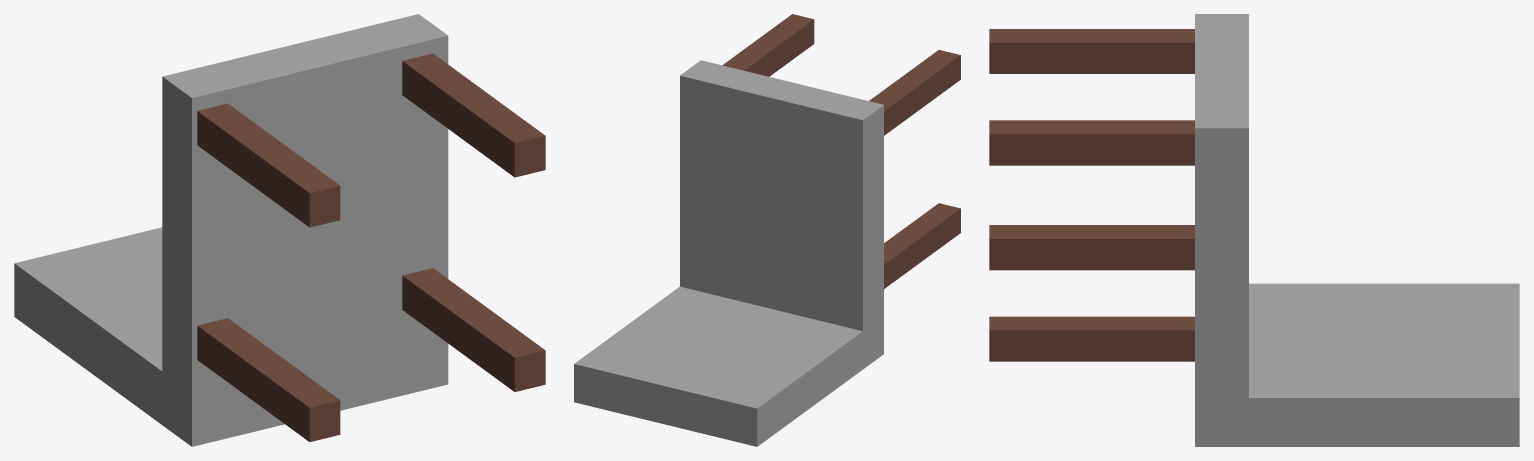
3 renders of one model, left to right at view 1: azimuth 30°, elevation 25°; view 2: azimuth 150°, elevation 25°; view 3: azimuth 270°, elevation 25°, orthographic. The views are drawn at different scales.
Visible parts, largest first — view 1: 立方体.004, 立方体.003, 立方体.002, 立方体, 立方体.001; view 2: 立方体.004, 立方体.002, 立方体, 立方体.003; view 3: 立方体.004, 立方体, 立方体.001, 立方体.003, 立方体.002.
Boxes of the visible parts, bbox=[...] form: 立方体.004: bbox=[14, 14, 448, 446]; 立方体.003: bbox=[402, 53, 545, 177]; 立方体.002: bbox=[197, 103, 340, 227]; 立方体: bbox=[197, 318, 340, 441]; 立方体.001: bbox=[402, 268, 545, 391]; 立方体.004: bbox=[574, 60, 883, 446]; 立方体.002: bbox=[869, 50, 960, 135]; 立方体: bbox=[884, 203, 960, 288]; 立方体.003: bbox=[722, 14, 814, 76]; 立方体.004: bbox=[1195, 14, 1519, 446]; 立方体: bbox=[989, 225, 1194, 270]; 立方体.001: bbox=[989, 316, 1194, 361]; 立方体.003: bbox=[989, 120, 1194, 165]; 立方体.002: bbox=[989, 29, 1194, 73].
Bounding box in the file's own units: 62.5 × 81.25 × 123.
